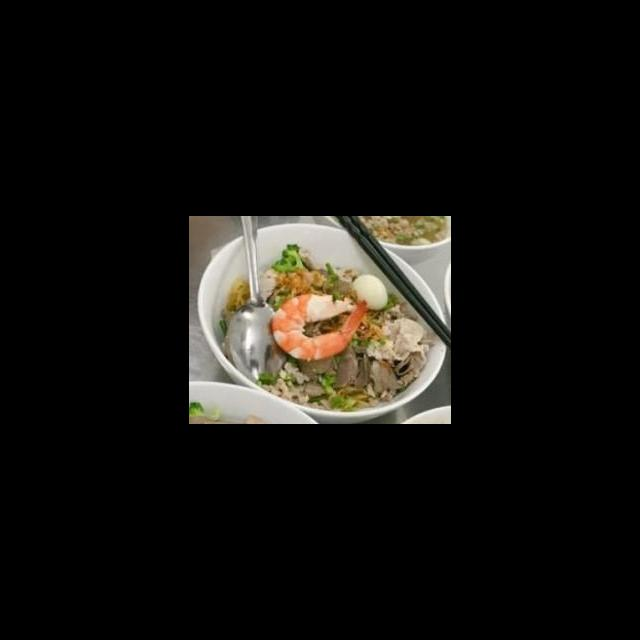thit bam: (254, 358, 314, 409)
thit heo: (363, 314, 432, 365)
tom: (268, 289, 370, 363)
trung: (351, 272, 389, 311)
